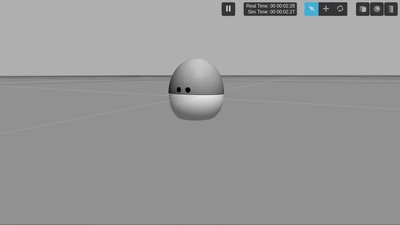mira_robot: (169, 59, 224, 121)
